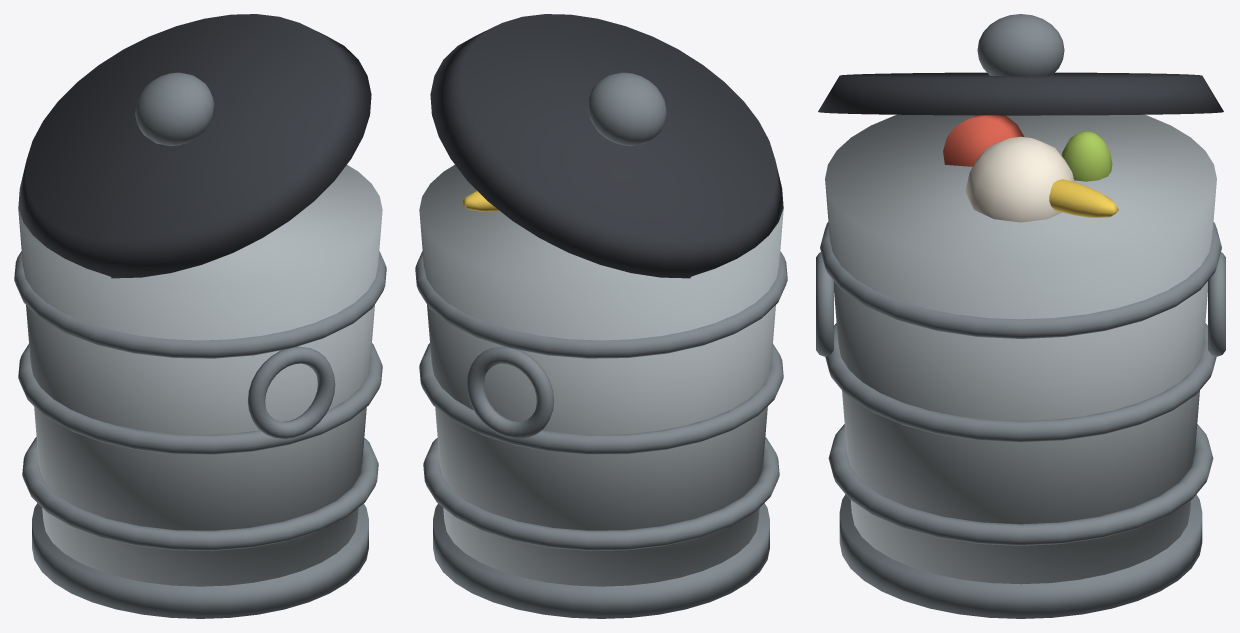
Rendered from garbage-can.glb.
3 views of the same model, side by side, from view 1: azimuth 30°, elevation 25°; view 2: azimuth 150°, elevation 25°; view 3: azimuth 270°, elevation 25° (orthographic). The views are drawn at different scales.
Visible parts, largest first — view 1: CAN · tin body, CAN · lid, CAN · base ring, CAN · rib 1, CAN · rib 2, CAN · rib 3, CAN · lid knob, CAN · near handle; view 2: CAN · tin body, CAN · lid, CAN · base ring, CAN · rib 1, CAN · rib 2, CAN · rib 3, CAN · lid knob, CAN · far handle; view 3: CAN · tin body, CAN · lid, CAN · base ring, CAN · rib 1, CAN · rib 2, CAN · rib 3, TRASH · crumpled paper 1, CAN · lid knob, TRASH · soda can 3, TRASH · apple core 4, TRASH · banana peel 2, CAN · far handle (+1 smaller).
Boxes of the visible parts, x1=… form: CAN · tin body: x1=18, y1=165, x2=382, y2=586; CAN · lid: x1=18, y1=14, x2=371, y2=278; CAN · base ring: x1=32, y1=503, x2=368, y2=618; CAN · rib 1: x1=22, y1=437, x2=378, y2=550; CAN · rib 2: x1=18, y1=343, x2=382, y2=454; CAN · rib 3: x1=14, y1=251, x2=386, y2=358; CAN · lid knob: x1=135, y1=72, x2=214, y2=146; CAN · near handle: x1=248, y1=346, x2=335, y2=438; CAN · tin body: x1=419, y1=165, x2=783, y2=586; CAN · lid: x1=430, y1=14, x2=783, y2=278; CAN · base ring: x1=433, y1=503, x2=769, y2=618; CAN · rib 1: x1=423, y1=437, x2=779, y2=550; CAN · rib 2: x1=419, y1=343, x2=783, y2=454; CAN · rib 3: x1=415, y1=251, x2=787, y2=358; CAN · lid knob: x1=587, y1=72, x2=666, y2=146; CAN · far handle: x1=466, y1=346, x2=553, y2=438; CAN · tin body: x1=825, y1=114, x2=1216, y2=584; CAN · lid: x1=818, y1=72, x2=1223, y2=115; CAN · base ring: x1=839, y1=494, x2=1202, y2=618; CAN · rib 1: x1=828, y1=424, x2=1213, y2=545; CAN · rib 2: x1=825, y1=323, x2=1216, y2=442; CAN · rib 3: x1=820, y1=222, x2=1221, y2=338; TRASH · crumpled paper 1: x1=965, y1=136, x2=1074, y2=222; CAN · lid knob: x1=977, y1=14, x2=1064, y2=76; TRASH · soda can 3: x1=943, y1=115, x2=1024, y2=166; TRASH · apple core 4: x1=1061, y1=131, x2=1112, y2=181; TRASH · banana peel 2: x1=1049, y1=179, x2=1118, y2=217; CAN · far handle: x1=1208, y1=252, x2=1225, y2=356.
Bounding box in the file's own units: 1.11 × 1.59 × 1.13.
